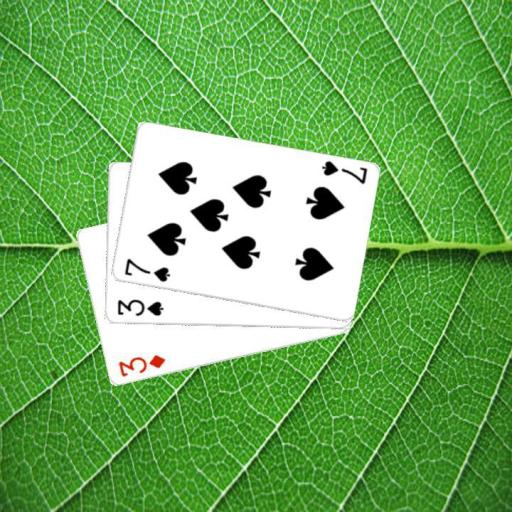3D: (115, 352, 167, 379)
3S: (114, 296, 164, 318)
7S: (121, 256, 171, 284), (318, 158, 368, 186)
